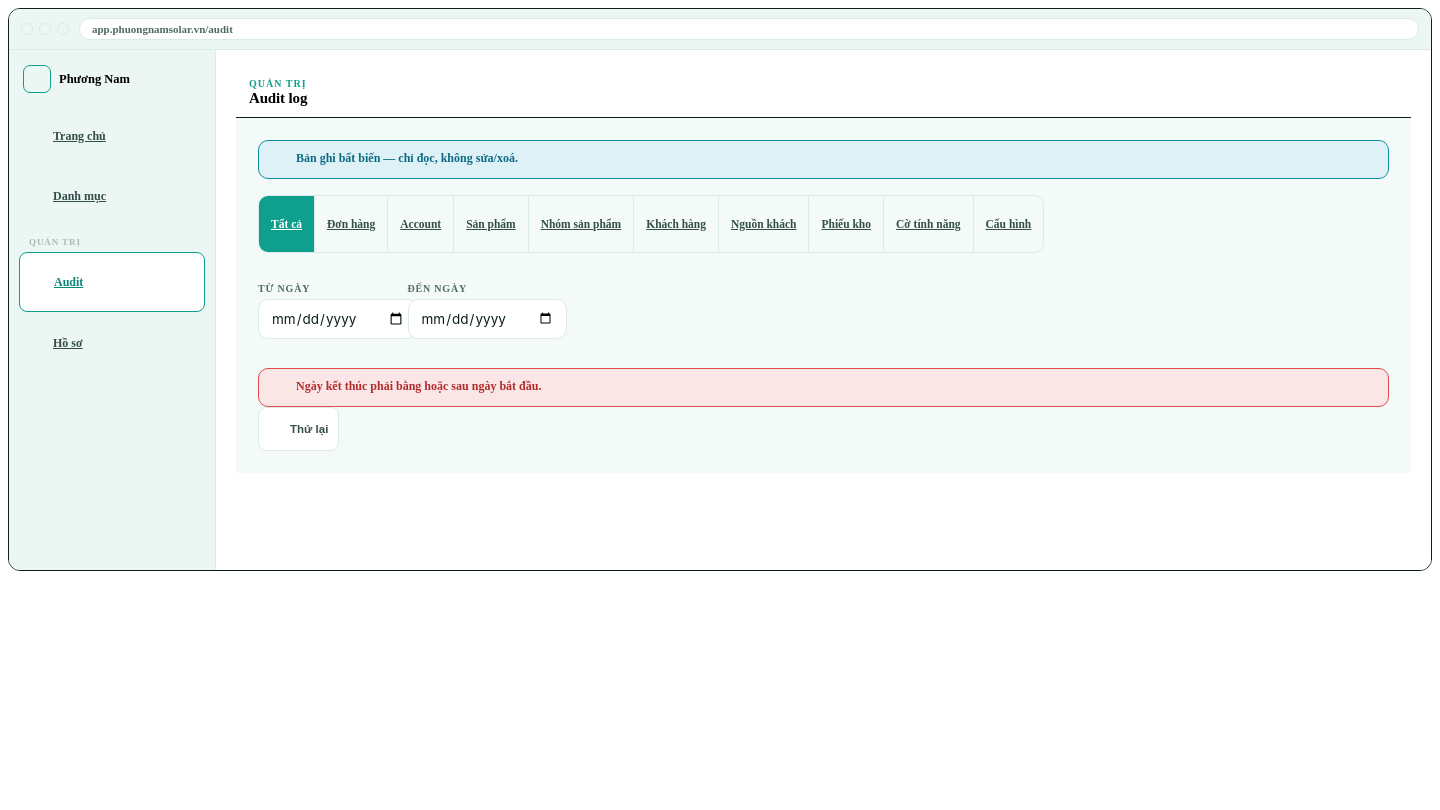
Test case: AuditLogScreen › a failure shows the backend sentence and Thử lại loads again
This screenshot has width=1440, height=810.
Check: the text "Ngày kết thúc phải bằng hoặc sau ngày bắt đầu." is shown, box [258,368,1389,407]
What coordinates should you click on to do the following:
click the button "Thử lại"
I would click on:
 (299, 429)
Its box is [258,407,339,451].
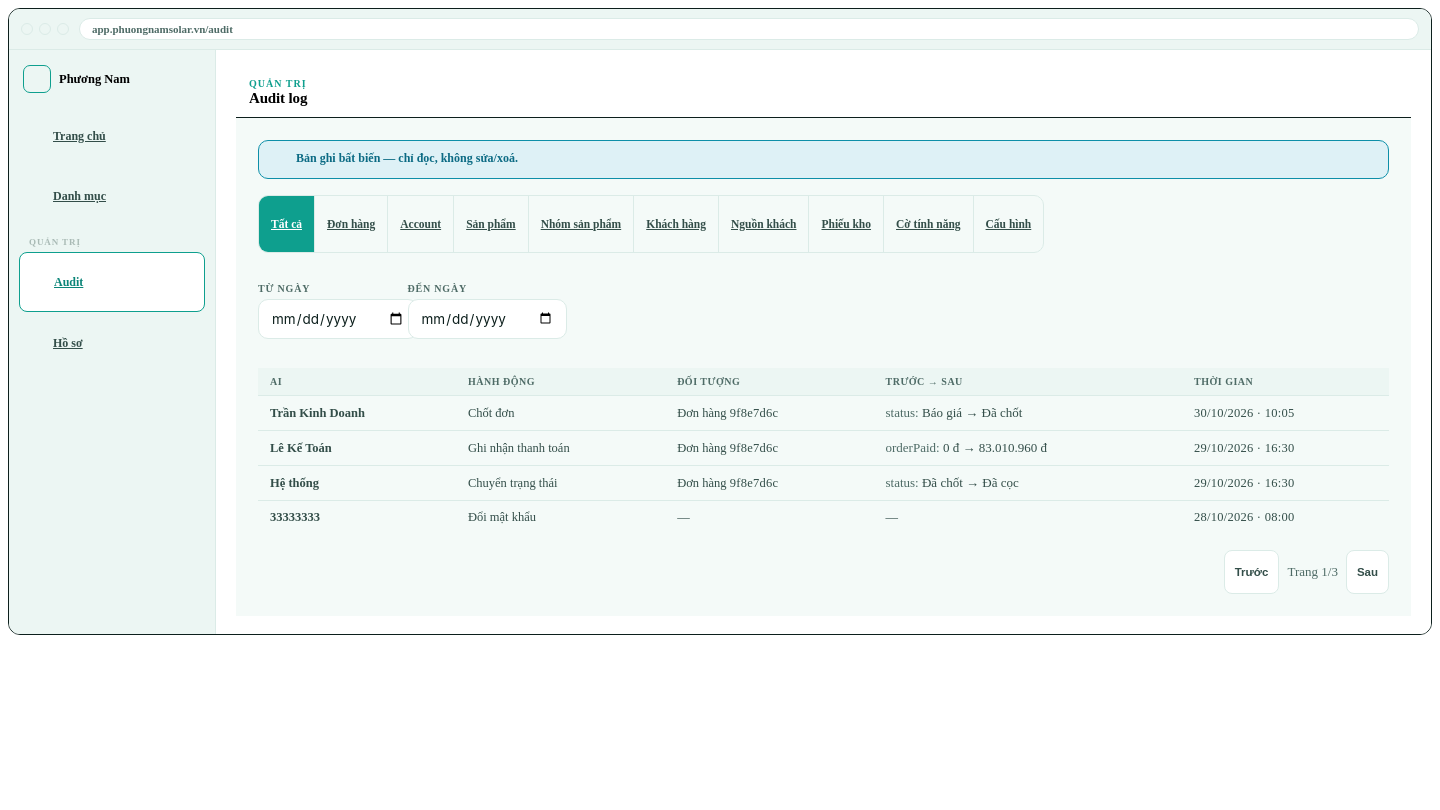
Check: the text "Trần Kinh Doanh" is shown, box [258,396,456,430]
